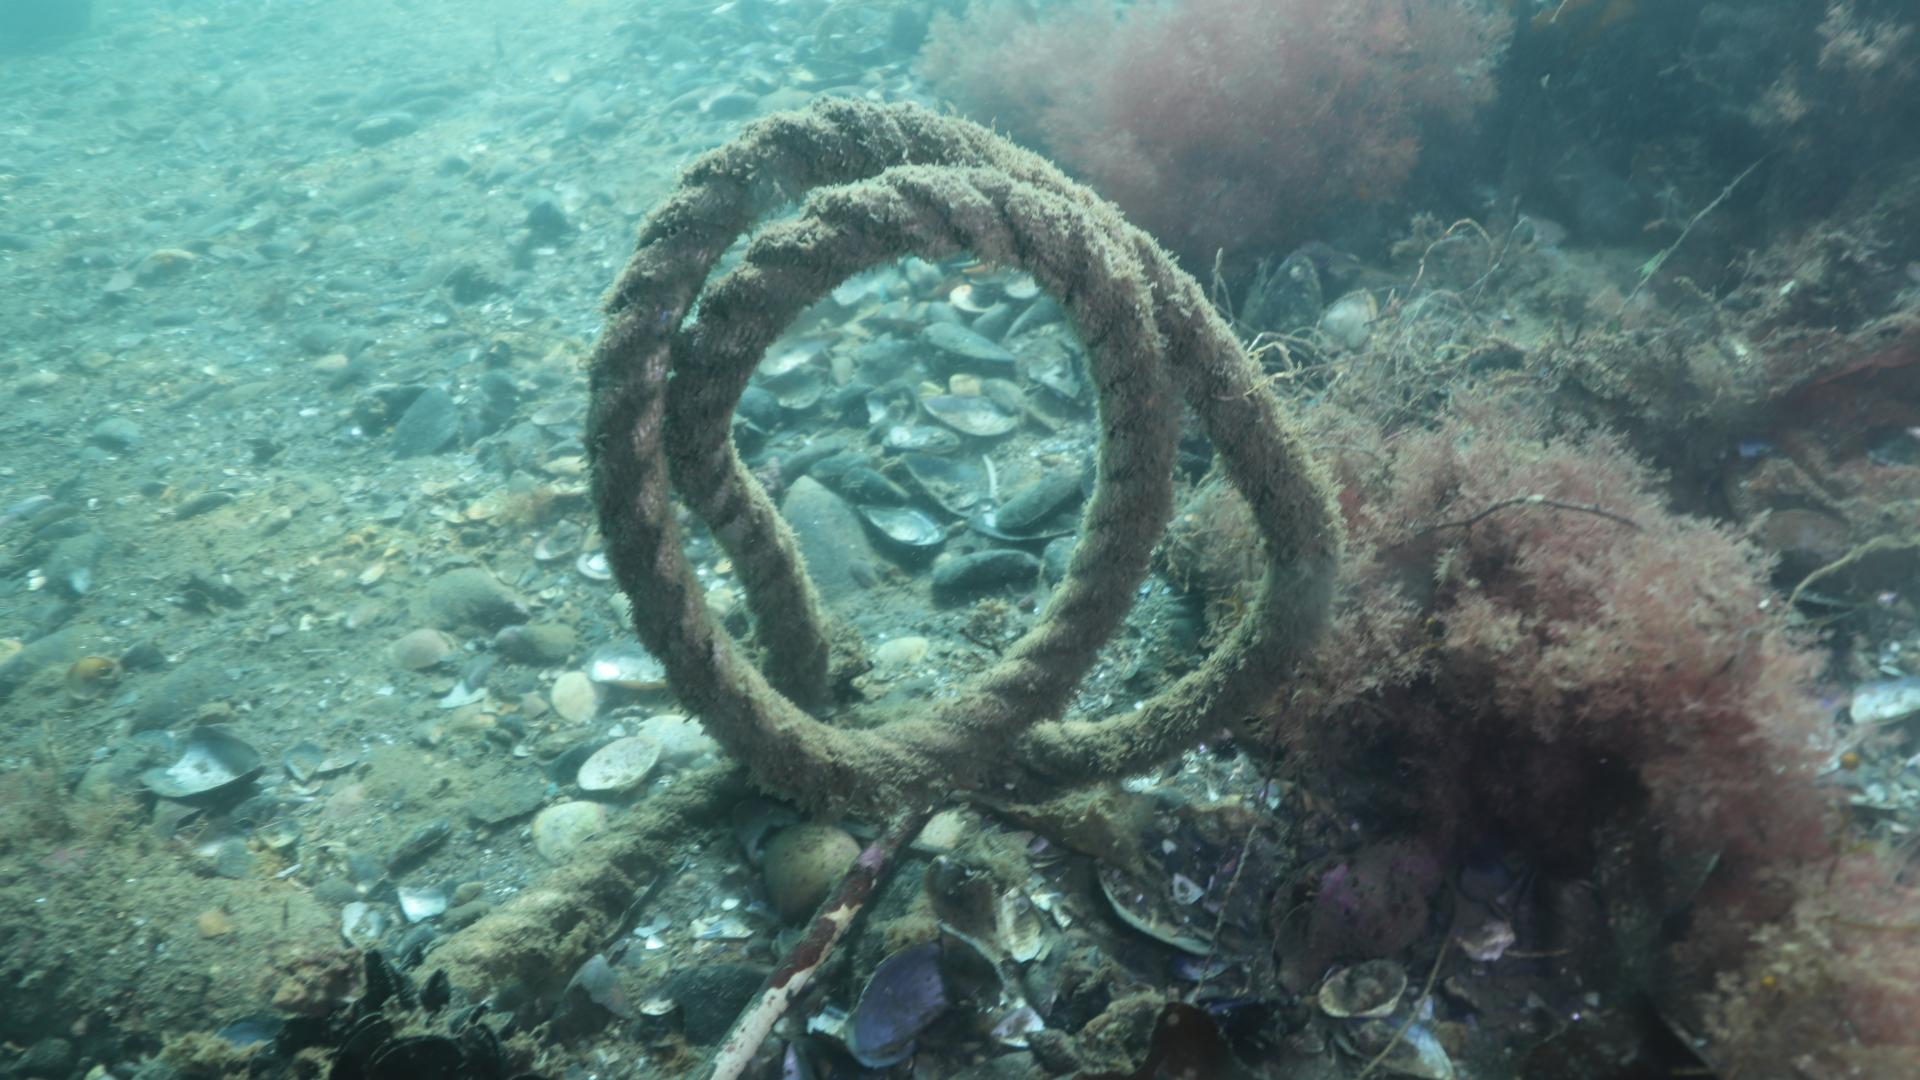bundle of ropes: (373, 88, 1346, 992)
